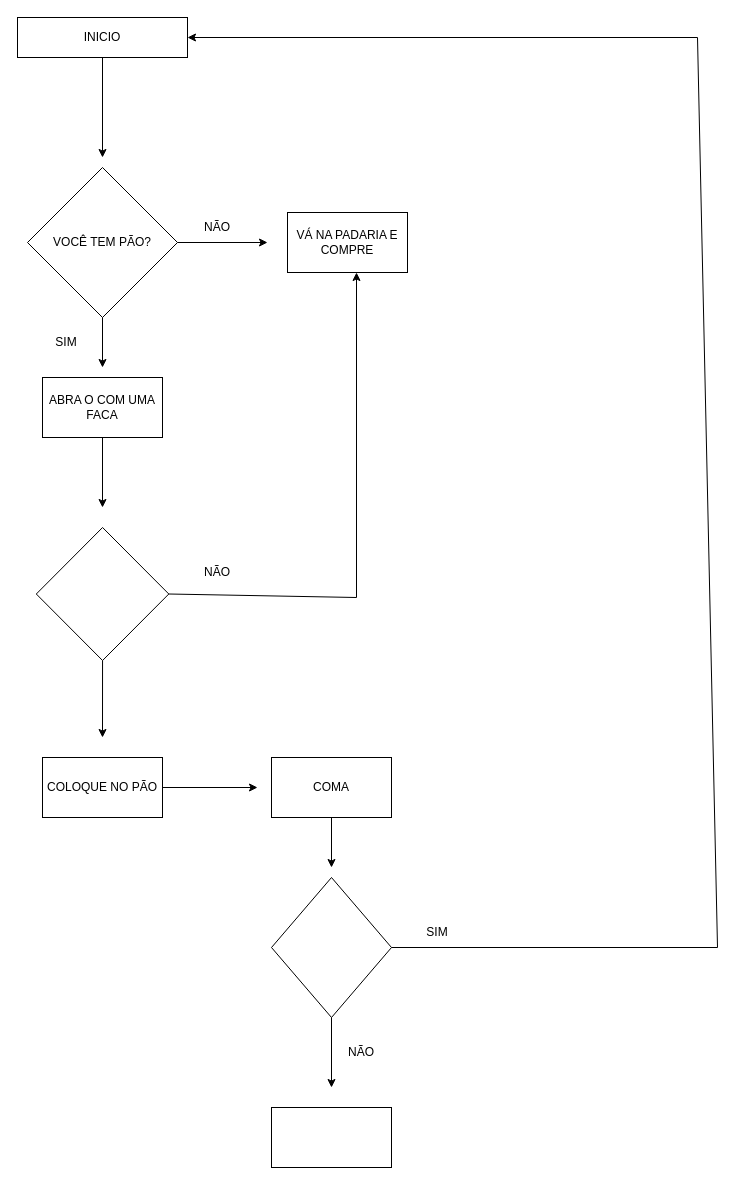
Some shapes in this 743 by 1185 pixel diagram are drawn without their labels. Each missing label, with the box of its shape:
AINDA SENTE FOME?: (270, 876, 392, 1018)
FIM DO PROGRAMA: (270, 1106, 392, 1168)
VOCÊ TEM PRESUNTO?: (35, 526, 169, 660)
